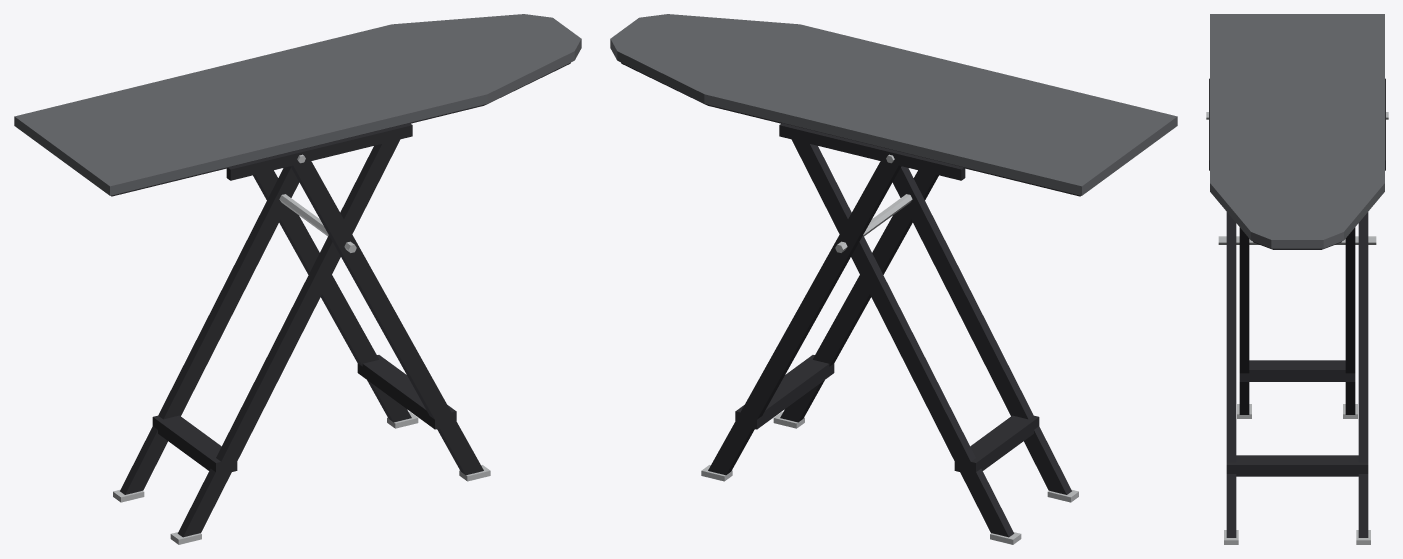
Rendered from FN_Board_Ironing.glb.
3 views of the same model, side by side, from view 1: azimuth 30°, elevation 25°; view 2: azimuth 150°, elevation 25°; view 3: azimuth 270°, elevation 25° (orthographic). The views are drawn at different scales.
Parts seen in each view (by area): view 1: FN_Board_Ironing; view 2: FN_Board_Ironing; view 3: FN_Board_Ironing.
Part boxes in pixels (bbox=[...]): FN_Board_Ironing: bbox=[14, 14, 581, 544]; FN_Board_Ironing: bbox=[610, 14, 1177, 544]; FN_Board_Ironing: bbox=[1206, 14, 1388, 544].
Size of the model in its own units: 1.22 by 0.9 by 0.416.
1 material, 1 textured.
